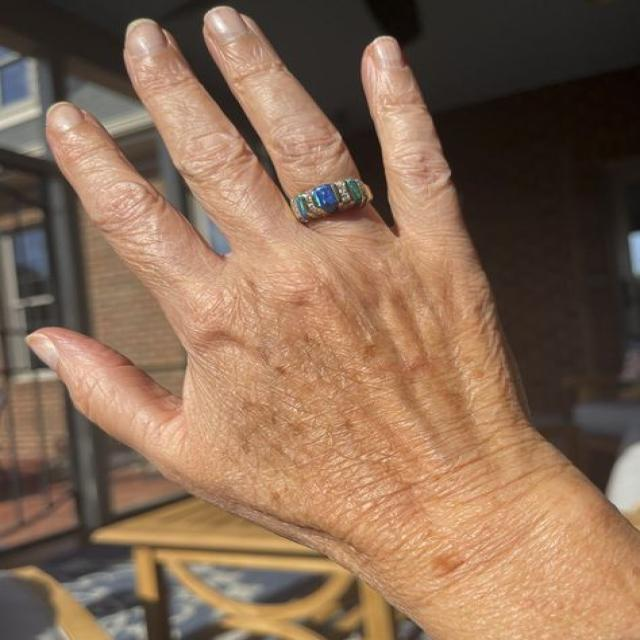Fingernail: (204, 5, 247, 46), (125, 19, 167, 57), (45, 101, 83, 136), (23, 333, 58, 371), (368, 36, 404, 69)
